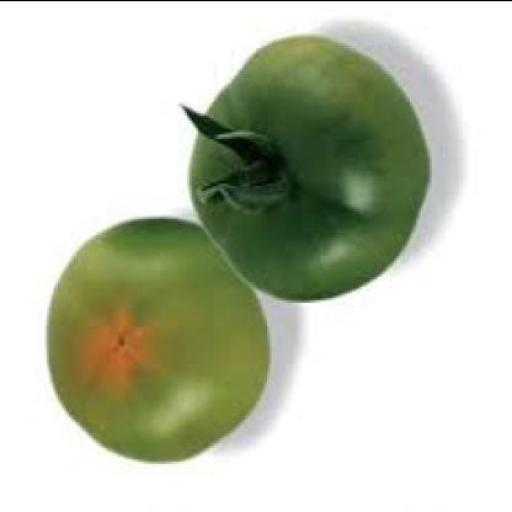biodegradable: (185, 35, 427, 303), (42, 217, 266, 466)
